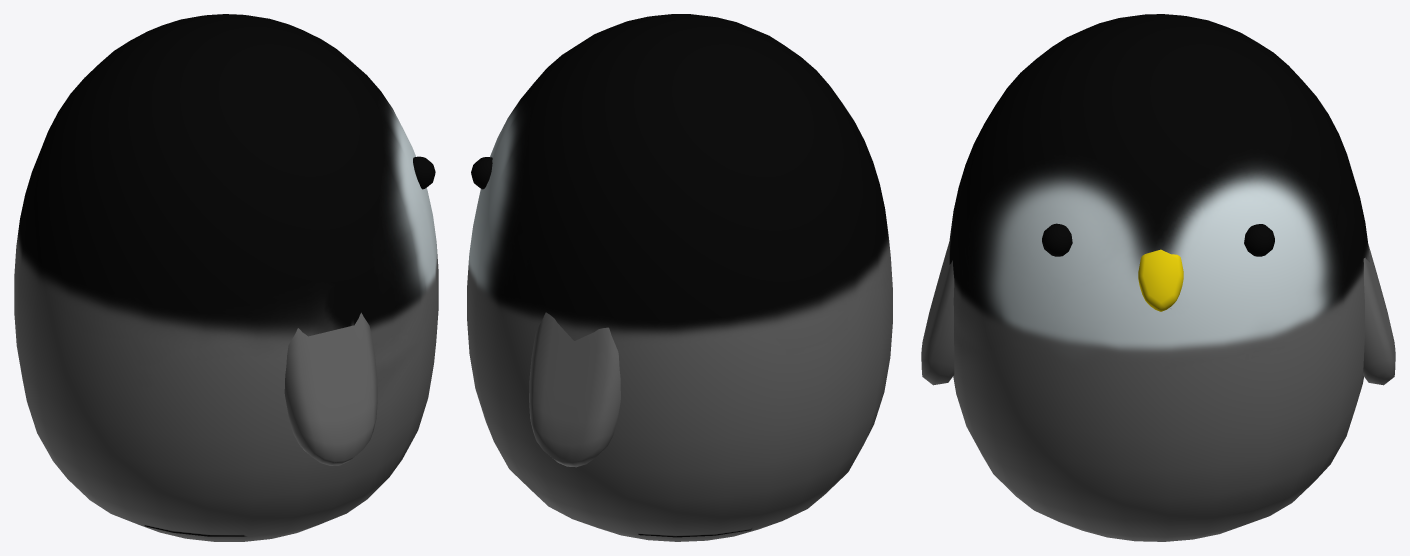
The model's file is BabyPenguin.gltf.
3 renders of one model, left to right at view 1: azimuth 30°, elevation 25°; view 2: azimuth 150°, elevation 25°; view 3: azimuth 270°, elevation 25°, orthographic.
Parts seen in each view (by area): view 1: Body, Plane, Sphere.001; view 2: Body, Plane, Sphere.001; view 3: Body, Plane, Plane.001, Sphere.001.
Boxes of the visible parts, x1=… form: Body: x1=14, y1=14, x2=438, y2=541; Plane: x1=284, y1=312, x2=377, y2=465; Sphere.001: x1=413, y1=156, x2=435, y2=189; Body: x1=467, y1=14, x2=892, y2=541; Plane: x1=529, y1=312, x2=620, y2=467; Sphere.001: x1=471, y1=157, x2=492, y2=189; Body: x1=949, y1=14, x2=1369, y2=541; Plane: x1=921, y1=241, x2=1395, y2=385; Plane.001: x1=1138, y1=249, x2=1183, y2=311; Sphere.001: x1=1042, y1=223, x2=1274, y2=256.
Bounding box in the file's own units: 2.33 × 2.85 × 2.57.
Materials: 4 (1 with a texture image).
